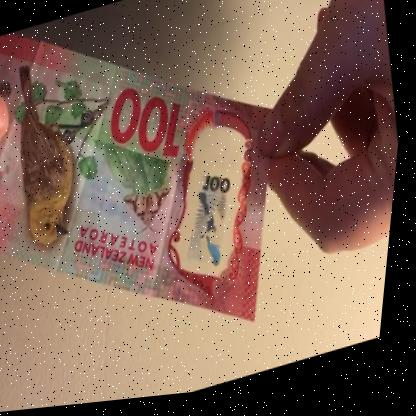100B: (171, 165, 255, 285)
